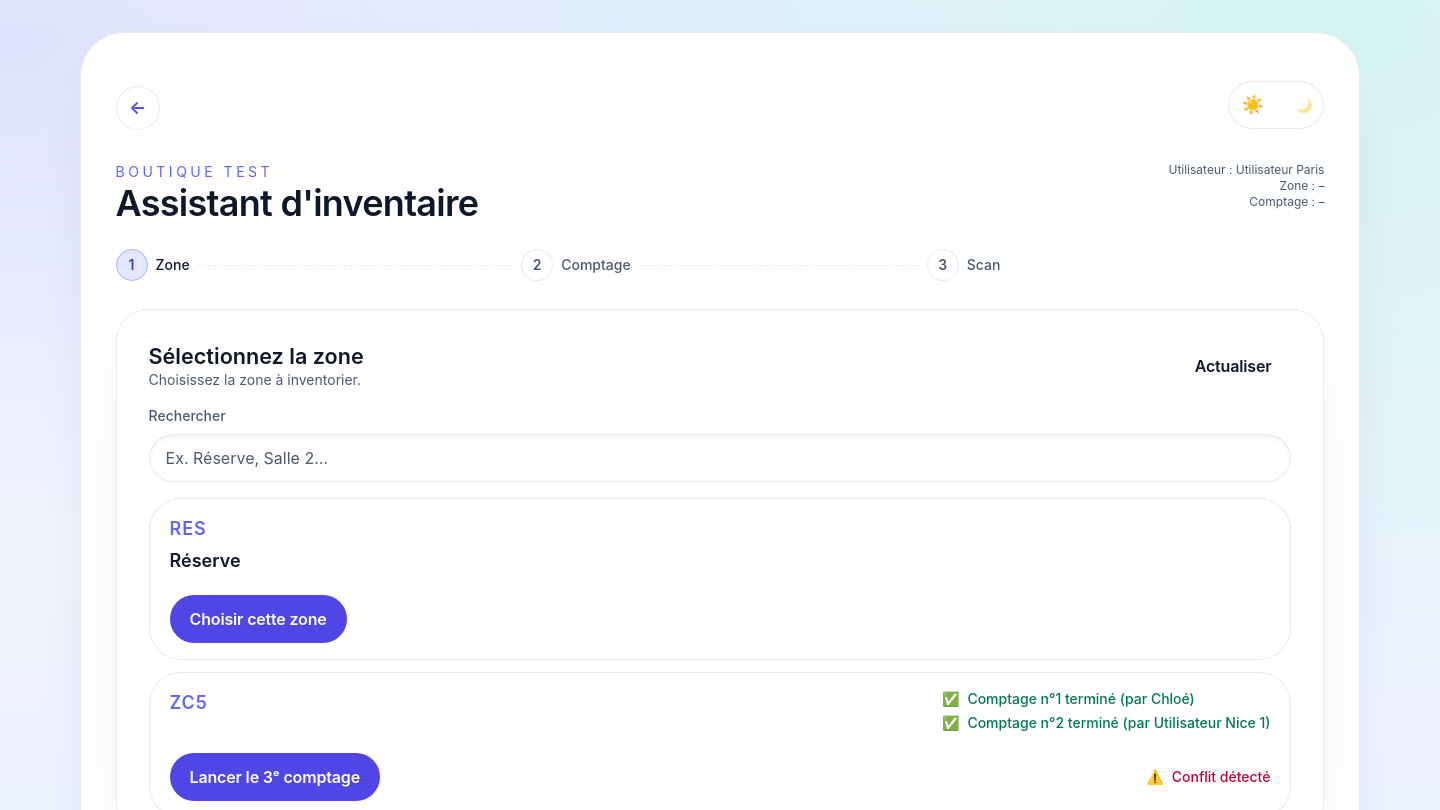
Test: Workflow d'inventaire › propose automatiquement le 3ᵉ comptage pour une zone en conflit
This screenshot has width=1440, height=810.
Click the button "Lancer le 3ᵉ comptage" at (275, 777), box [170, 753, 380, 801]
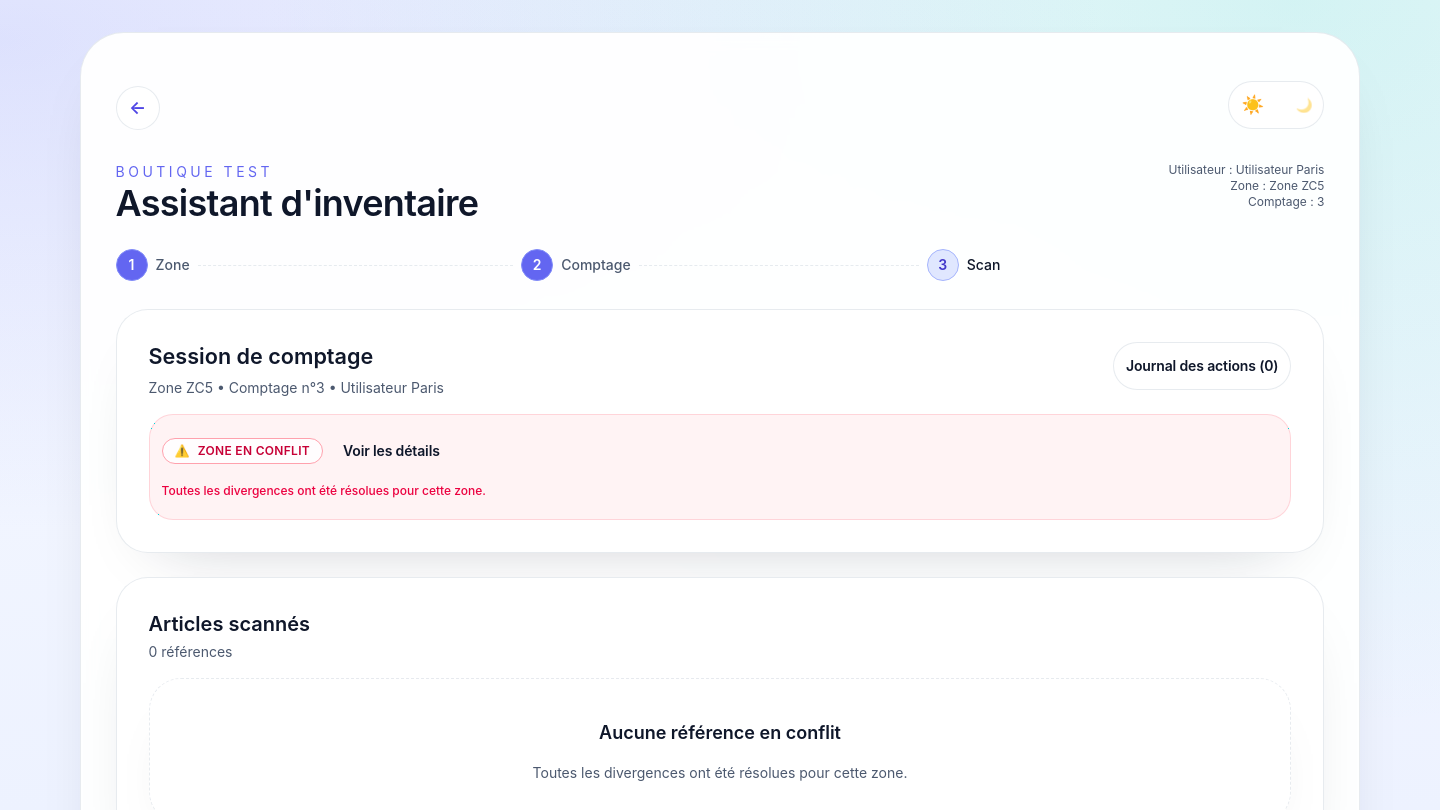
Result: the text "Zone ZC5 • Comptage n°3 • Utilisateur Paris" is shown at [148, 378, 444, 398]
